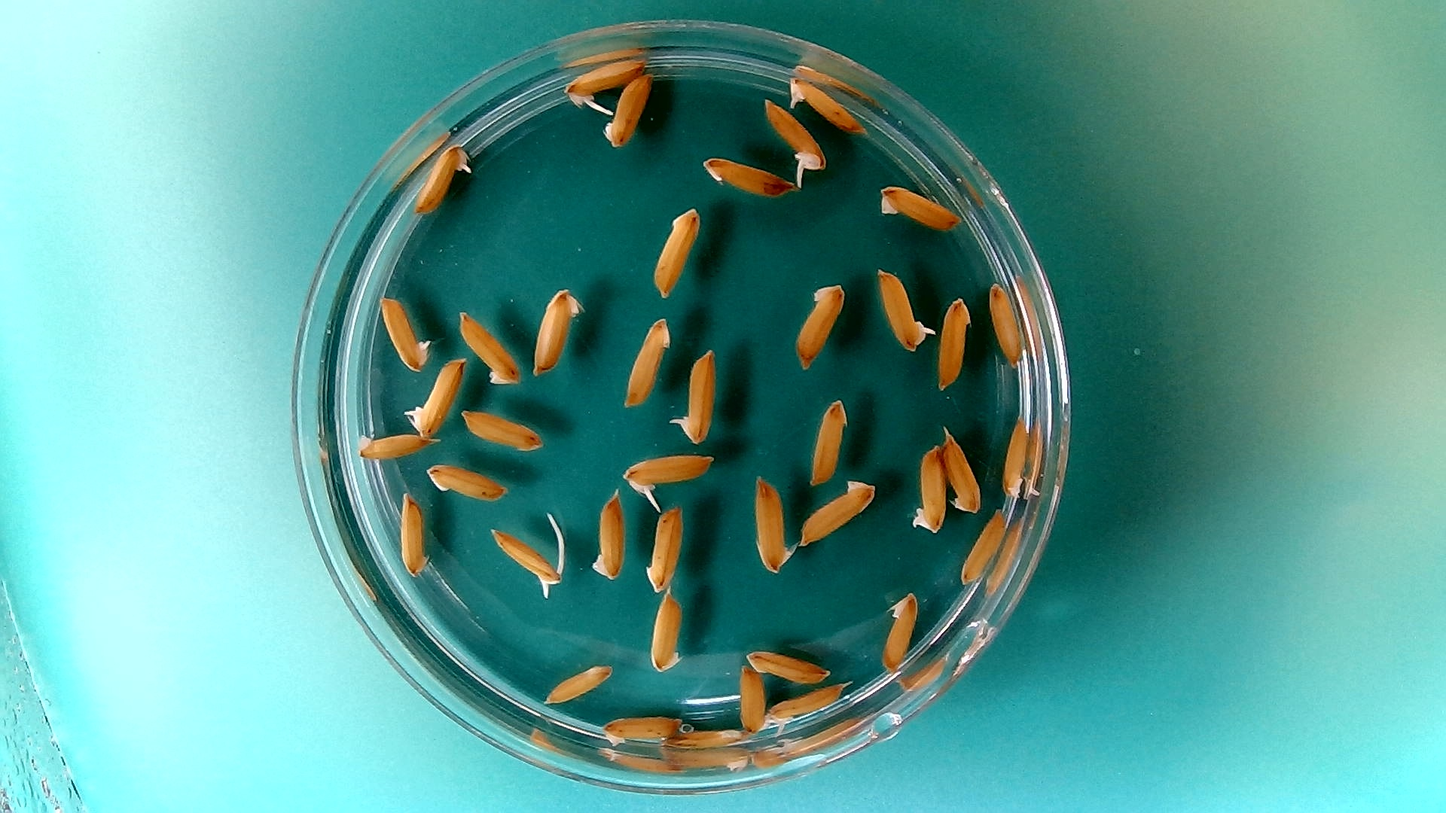no: (793, 475, 881, 550), (456, 306, 523, 389), (648, 202, 703, 299), (907, 434, 950, 556), (791, 278, 848, 370), (620, 314, 674, 410), (529, 284, 585, 376), (750, 470, 798, 575), (696, 151, 795, 199), (874, 181, 962, 233), (599, 69, 655, 149), (457, 406, 545, 453), (586, 486, 628, 583), (807, 395, 850, 488), (941, 426, 984, 517), (959, 507, 1008, 586), (643, 501, 685, 593), (878, 588, 922, 673), (934, 293, 972, 391), (425, 460, 509, 503), (987, 278, 1027, 367), (743, 646, 831, 685), (645, 590, 685, 674), (541, 661, 615, 706), (599, 710, 685, 748), (351, 425, 435, 461), (1000, 410, 1033, 501), (398, 489, 430, 578), (734, 661, 770, 735), (667, 727, 758, 749)
yes: (484, 526, 566, 598), (402, 353, 468, 440), (760, 95, 828, 178), (873, 264, 934, 355), (620, 448, 717, 501), (783, 75, 868, 135), (763, 680, 847, 740), (670, 344, 719, 444), (559, 53, 648, 107), (413, 139, 474, 216), (377, 291, 432, 371)
